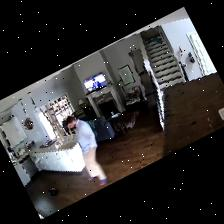person: (66, 117, 106, 185), (92, 78, 101, 89)
